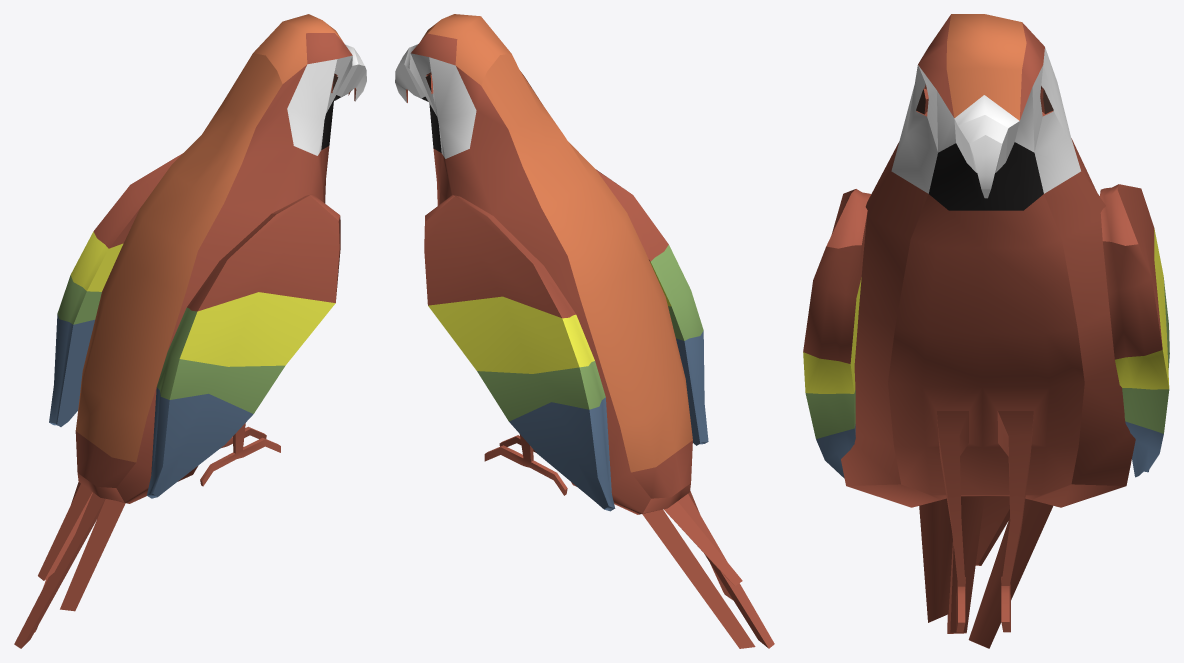
The model's file is Parrot_Bird.fbx.
3 renders of one model, left to right at view 1: azimuth 30°, elevation 25°; view 2: azimuth 150°, elevation 25°; view 3: azimuth 270°, elevation 25°, orthographic. The views are drawn at different scales.
Parts seen in each view (by area): view 1: Body, R_Wing, L_WIng; view 2: Body, L_WIng, R_Wing; view 3: Body, L_WIng, R_Wing.
Boxes of the visible parts, x1,y1,x2,y2 form: Body: (14,14,366,648); R_Wing: (147,194,340,498); L_WIng: (49,153,182,426); Body: (395,14,774,648); L_WIng: (424,195,615,511); R_Wing: (596,169,708,445); Body: (841,14,1135,648); L_WIng: (1099,184,1169,477); R_Wing: (803,189,870,478).
Size of the model in its own units: 5.67 by 8.28 by 3.3.
